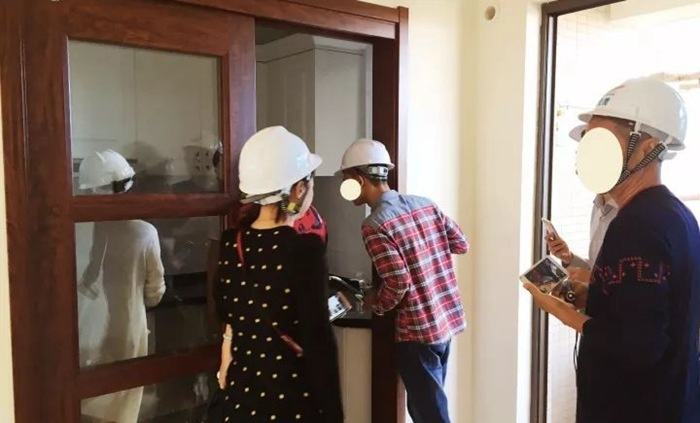white: (577, 69, 686, 198), (234, 125, 319, 219), (337, 133, 395, 208), (77, 149, 142, 203)
